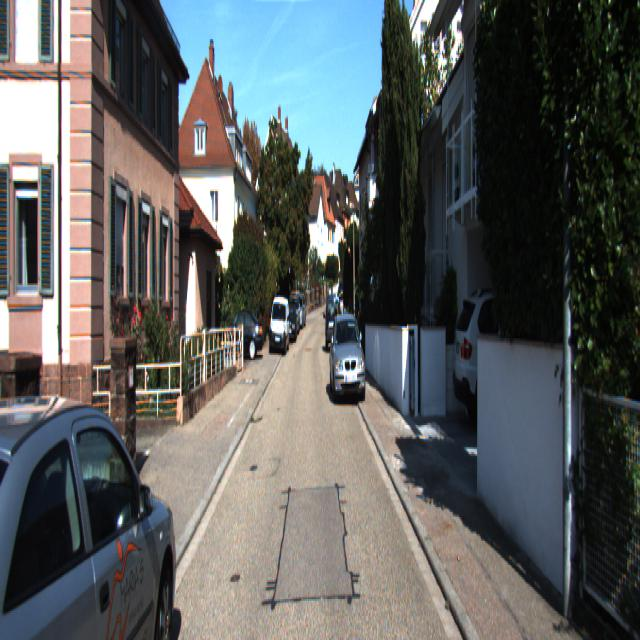Car: (0, 366, 187, 638), (452, 281, 581, 438), (329, 309, 366, 404), (217, 307, 264, 360), (268, 295, 292, 357), (326, 294, 342, 352)
